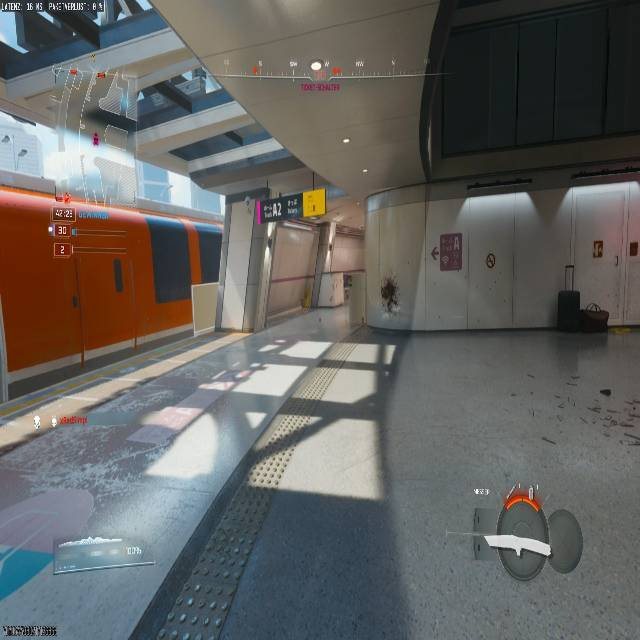player: (381, 277, 398, 312)
